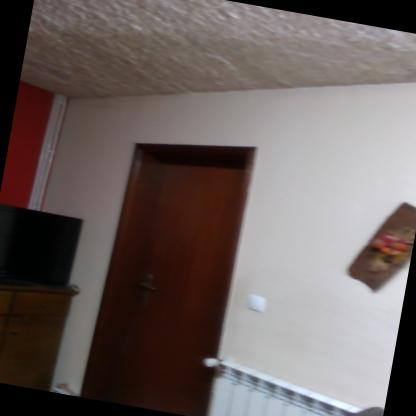closed: (82, 110, 272, 408)
